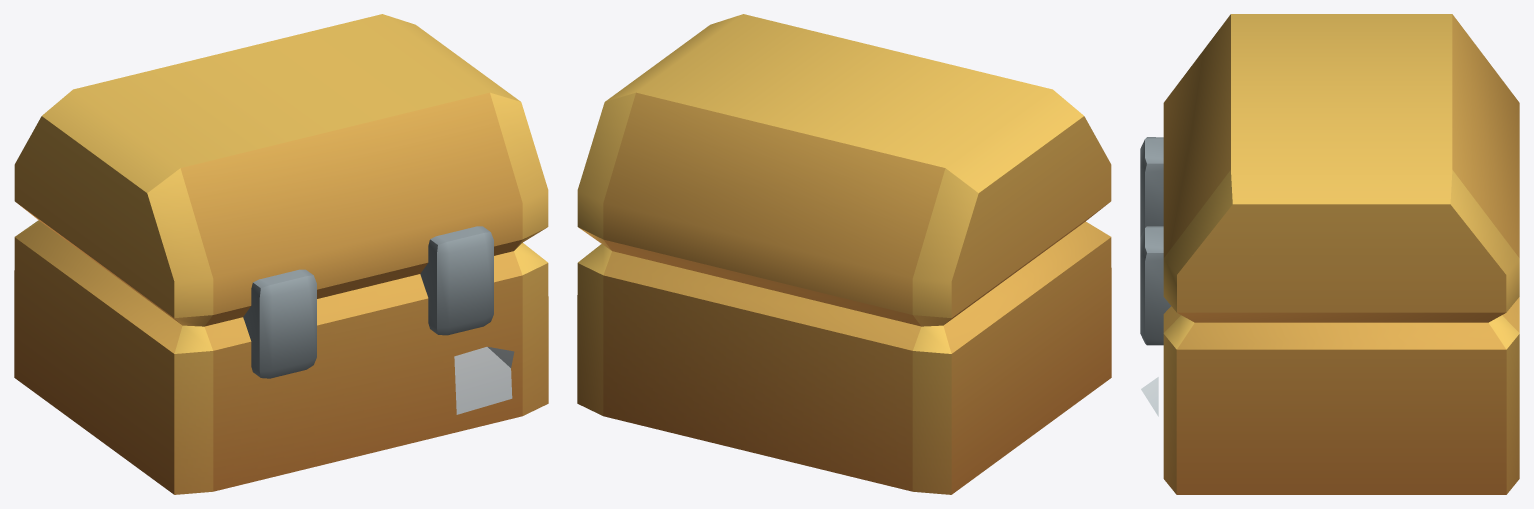
Rendered from ammo_crate.obj.
3 views of the same model, side by side, from view 1: azimuth 30°, elevation 25°; view 2: azimuth 150°, elevation 25°; view 3: azimuth 270°, elevation 25° (orthographic). The views are drawn at different scales.
Visible parts, largest first — view 1: ammo_crate; view 2: ammo_crate; view 3: ammo_crate.
Boxes of the visible parts, x1,y1,x2,y2 form: ammo_crate: [14, 14, 548, 494]; ammo_crate: [577, 14, 1111, 494]; ammo_crate: [1140, 14, 1519, 494].
Size of the model in its own units: 0.575 by 0.46 by 0.4901.
1 material, 1 textured.
